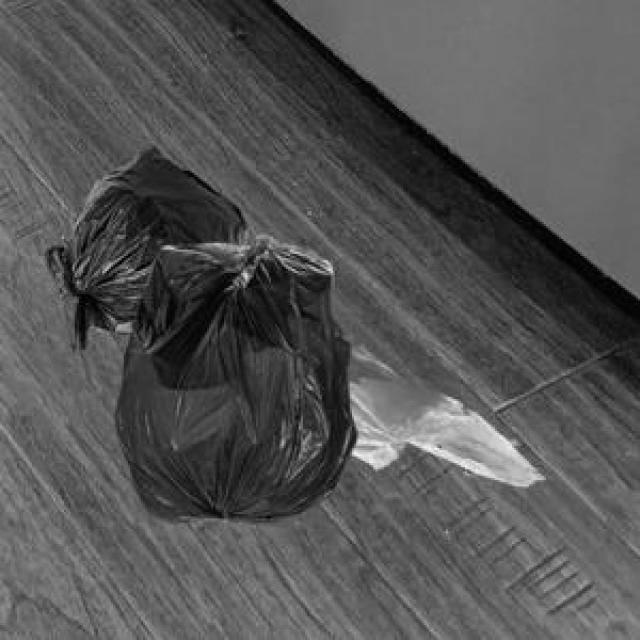miscellaneous trash: (111, 233, 352, 518), (41, 141, 243, 350)
